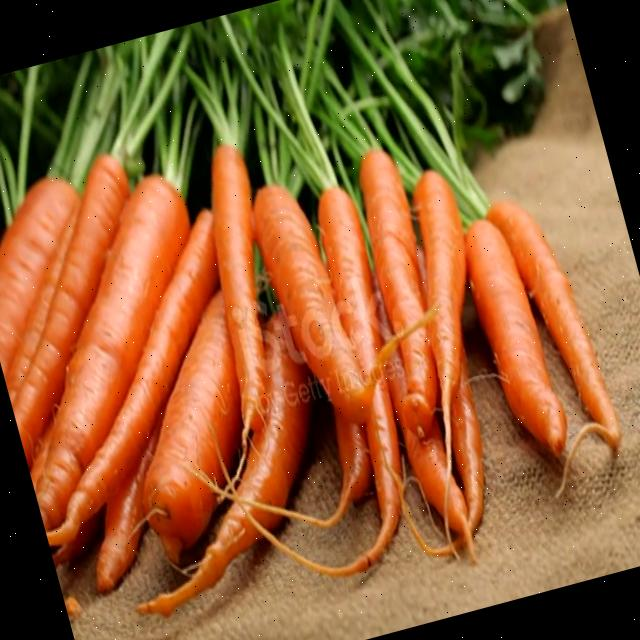carrot: (48, 209, 219, 545), (35, 174, 188, 529), (12, 154, 129, 466), (488, 201, 621, 450), (191, 314, 312, 582), (369, 272, 476, 545), (318, 186, 399, 542), (253, 187, 372, 423), (142, 289, 240, 561), (465, 222, 567, 456), (357, 150, 435, 435), (211, 144, 266, 434), (0, 178, 77, 378), (5, 203, 78, 403), (412, 170, 466, 439), (451, 349, 484, 532), (96, 462, 142, 593), (335, 415, 369, 498)
